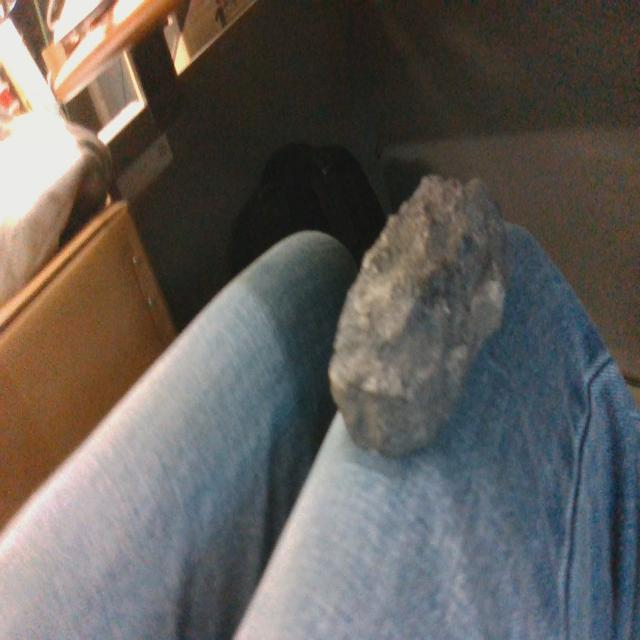stone: (326, 173, 506, 461)
